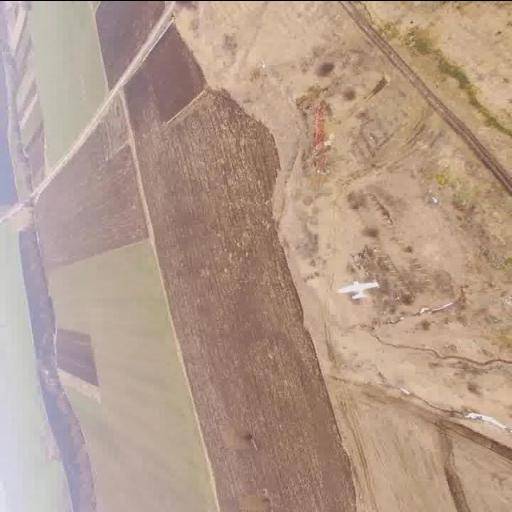uav: (328, 270, 386, 298)
